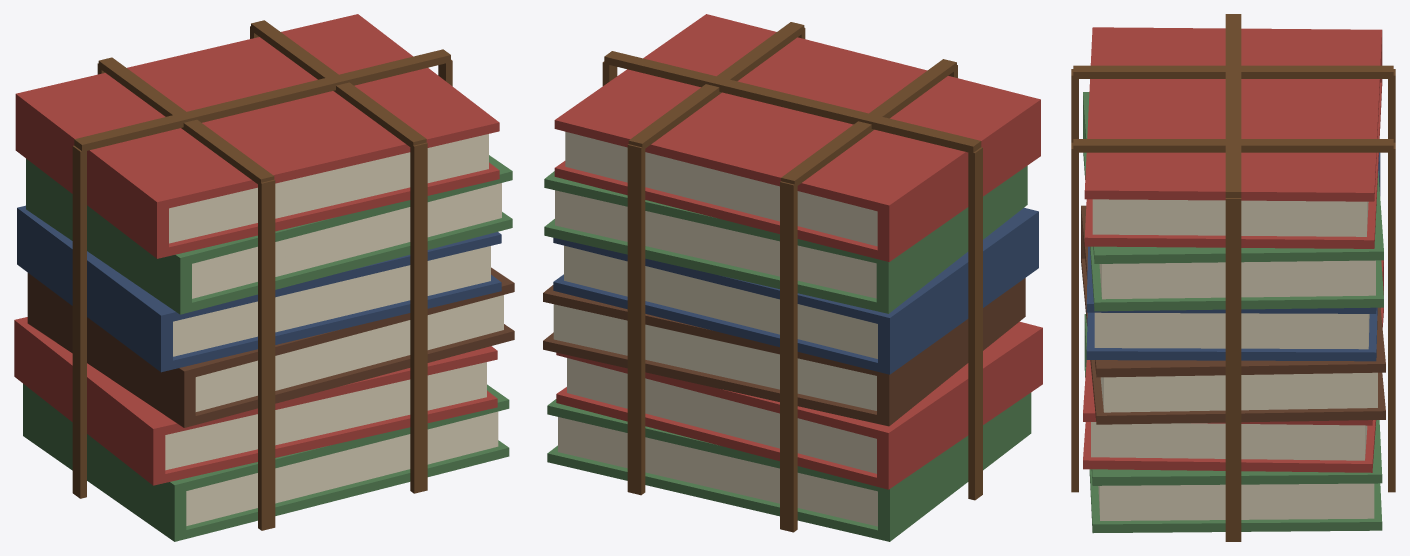
File: BookStackB02.glb
3 renders of one model, left to right at view 1: azimuth 30°, elevation 25°; view 2: azimuth 150°, elevation 25°; view 3: azimuth 270°, elevation 25°, orthographic.
Visible parts, largest first — view 1: Body_CoverRed, Body_Pages, Body_Strap, Body_CoverGreen, Body_CoverBlue, Body_CoverBrown; view 2: Body_CoverRed, Body_Pages, Body_Strap, Body_CoverGreen, Body_CoverBlue, Body_CoverBrown; view 3: Body_Pages, Body_CoverRed, Body_Strap, Body_CoverGreen, Body_CoverBrown, Body_CoverBlue.
Part boxes in pixels (left/top/right/bottom): Body_CoverRed: left=14, top=14, right=499, bottom=485; Body_Pages: left=165, top=134, right=503, bottom=525; Body_Strap: left=72, top=20, right=452, bottom=530; Body_CoverGreen: left=23, top=155, right=512, bottom=541; Body_CoverBlue: left=17, top=205, right=501, bottom=372; Body_CoverBrown: left=27, top=267, right=514, bottom=427; Body_CoverRed: left=554, top=14, right=1042, bottom=489; Body_Pages: left=553, top=131, right=877, bottom=526; Body_Strap: left=602, top=22, right=982, bottom=532; Body_CoverGreen: left=544, top=165, right=1031, bottom=541; Body_CoverBlue: left=553, top=207, right=1038, bottom=374; Body_CoverBrown: left=543, top=278, right=1025, bottom=426; Body_Pages: left=1091, top=199, right=1377, bottom=520; Body_CoverRed: left=1083, top=27, right=1383, bottom=472; Body_Strap: left=1071, top=14, right=1395, bottom=541; Body_CoverGreen: left=1083, top=92, right=1383, bottom=533; Body_CoverBrown: left=1081, top=205, right=1385, bottom=424; Body_CoverBlue: left=1086, top=152, right=1380, bottom=361.
Size of the model in its own units: 2.2 by 2 by 1.68.
